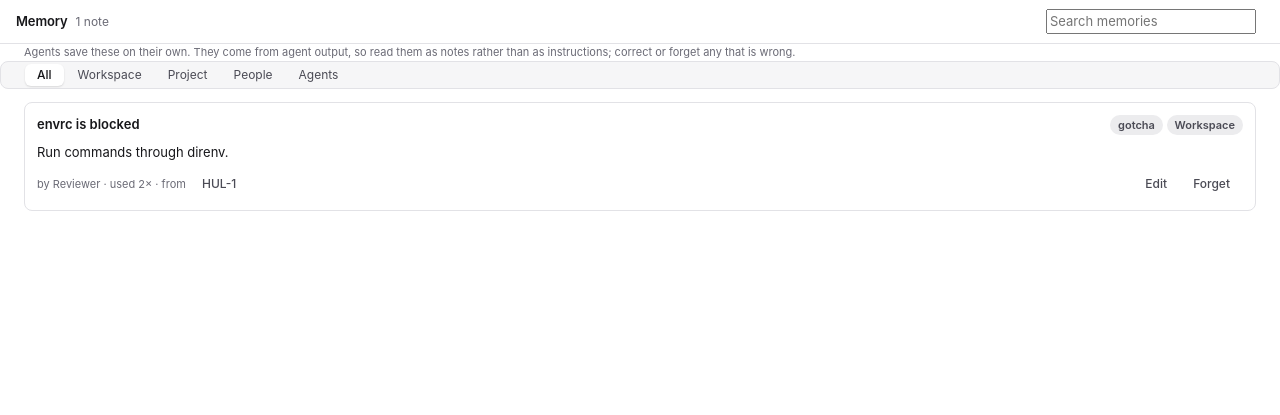
Memories › shows why a save failed
The image size is (1280, 415).
Click the button "Edit" at (1156, 184), box [1132,170,1180,198]
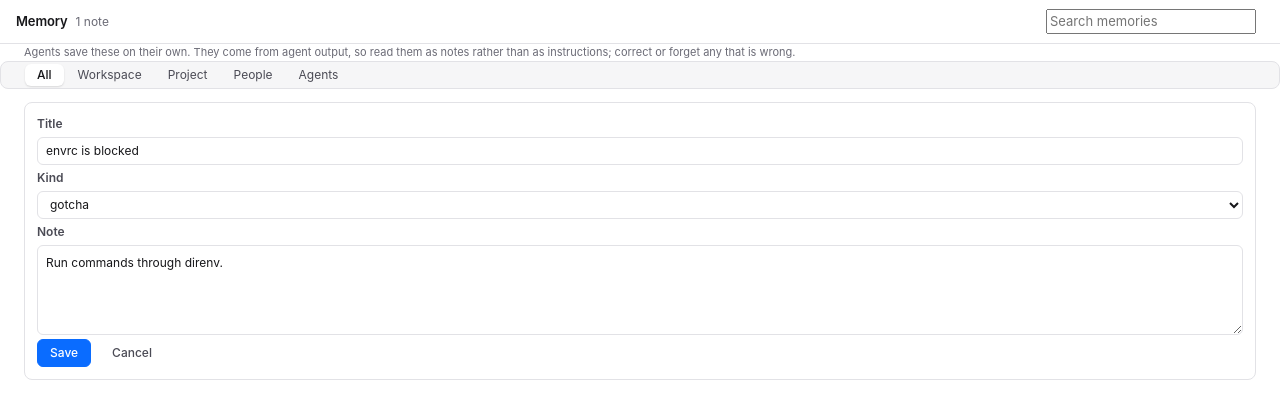
Click the button "Save" at (64, 352), box [37,338,91,366]
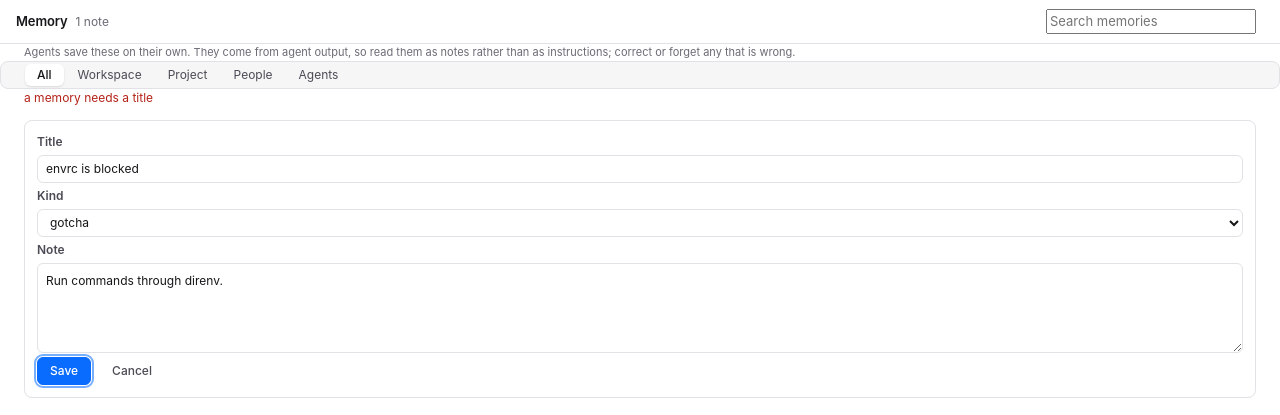
Expected: the text "a memory needs a title" is shown, [24,90,153,104]
